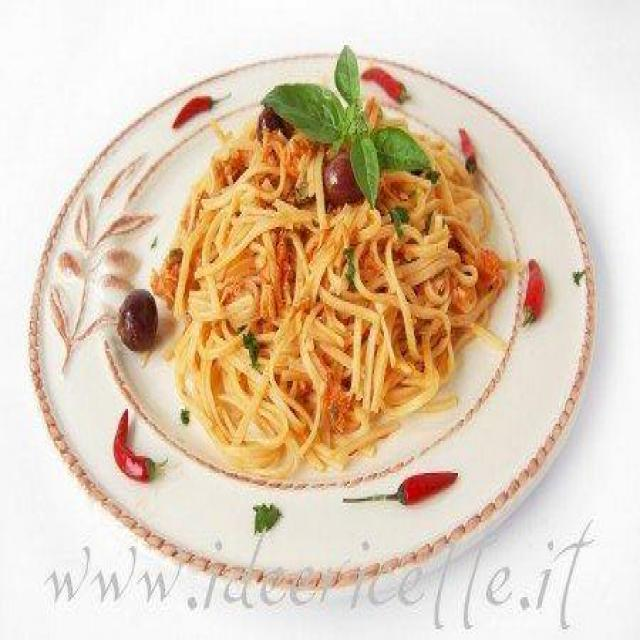Oil pasta: (93, 60, 531, 512)
